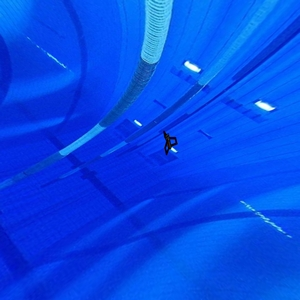submarine: (159, 129, 181, 159)
